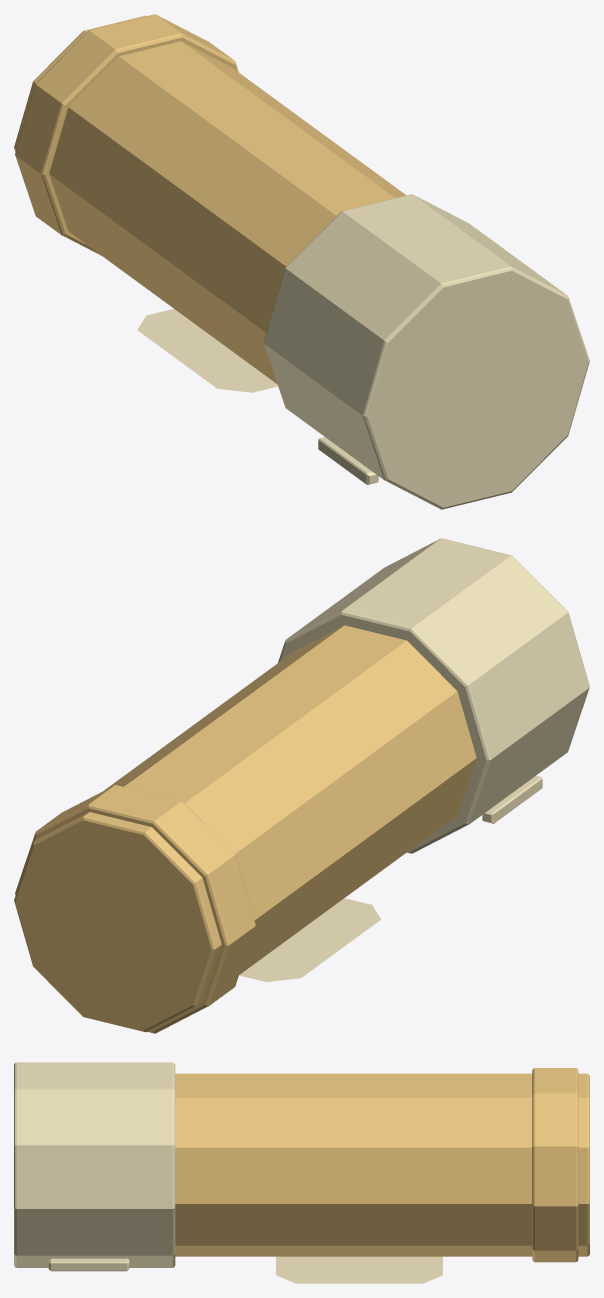
File: glue_stick.glb
3 renders of one model, top to bottom at view 1: azimuth 30°, elevation 25°; view 2: azimuth 150°, elevation 25°; view 3: azimuth 270°, elevation 25°, orthographic. The views are drawn at different scales.
Visible parts, largest first — view 1: glue_stick; view 2: glue_stick; view 3: glue_stick.
Part boxes in pixels (x1,y1,x2,y2): glue_stick: (14,14,589,509); glue_stick: (14,538,589,1033); glue_stick: (14,1062,589,1283).
Bounding box in the file's own units: 0.036 × 0.0342 × 0.1.
